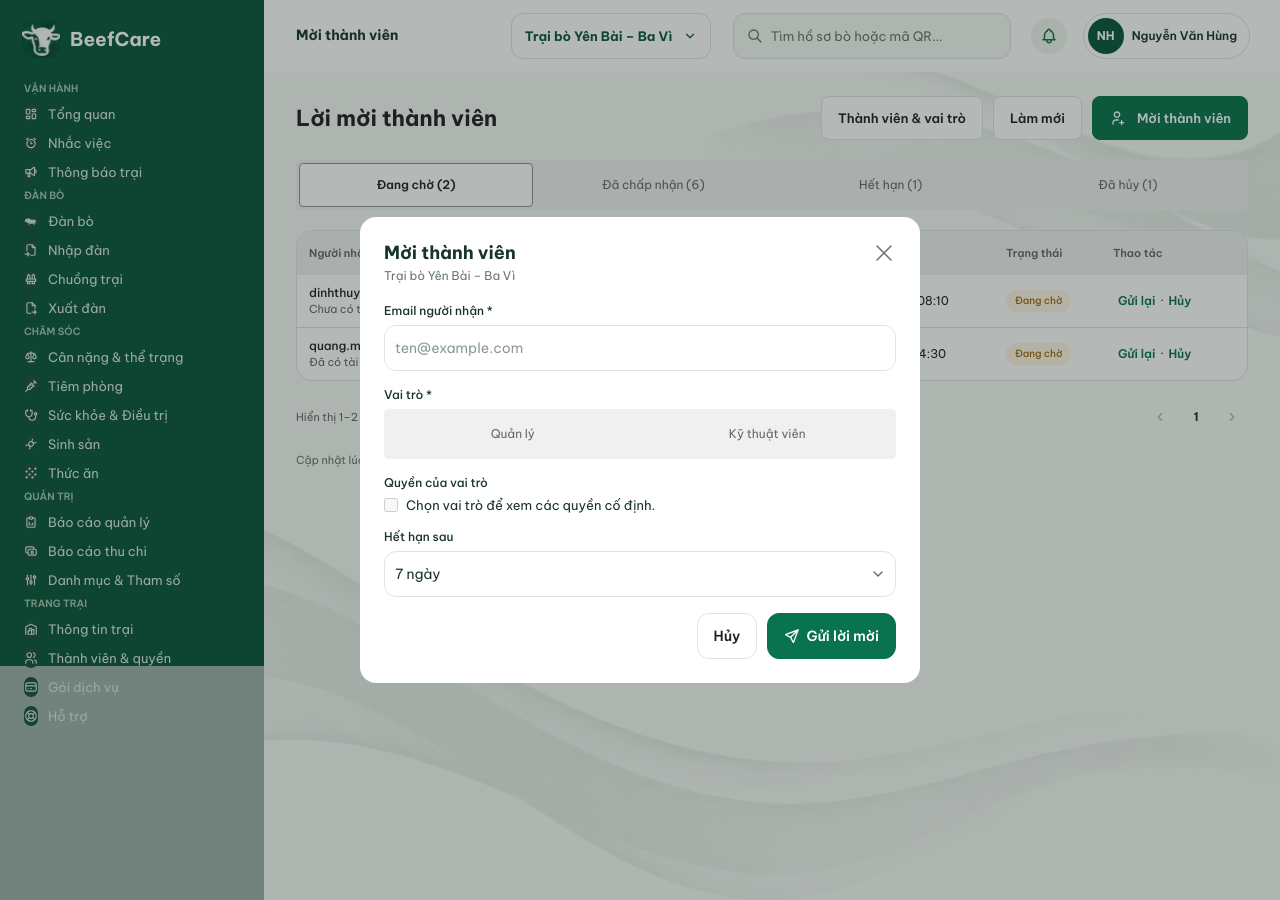
Test: Farm Invitations › sends an invitation from the ?m=invite dialog once a role is chosen
This screenshot has width=1280, height=900.
Check: the text "Chọn vai trò để xem các quyền cố định." is shown, box [384, 497, 655, 513]
Check: the button "Gửi lời mời" is enabled, box [767, 613, 896, 659]
Type "phamtuan.kt@gmail.com" into the field labelled "Email người nhận *".
click(640, 348); type("phamtuan.kt@gmail.com")  # box [384, 325, 896, 371]
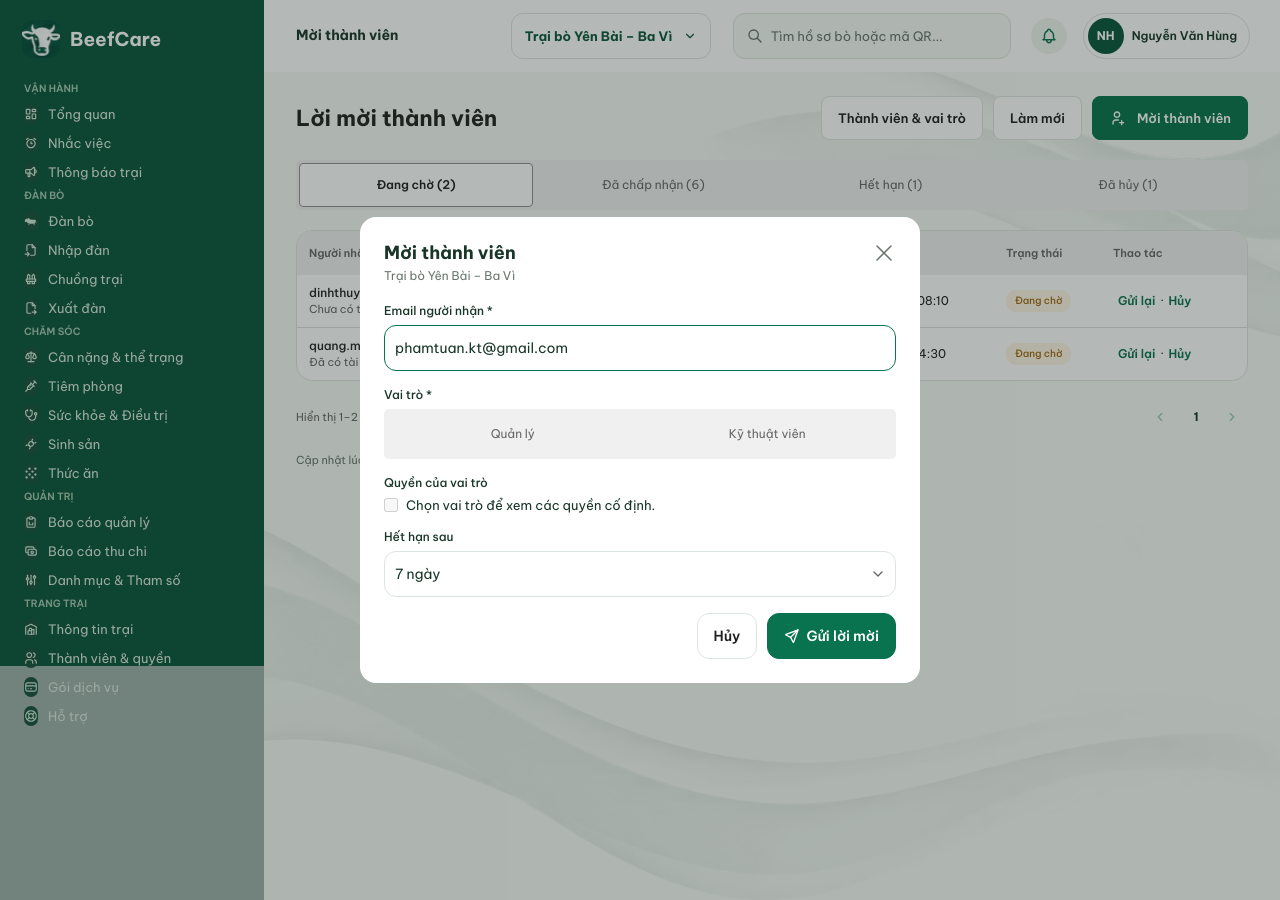
Click the button "Kỹ thuật viên".
click(767, 434)  # box [642, 412, 893, 456]
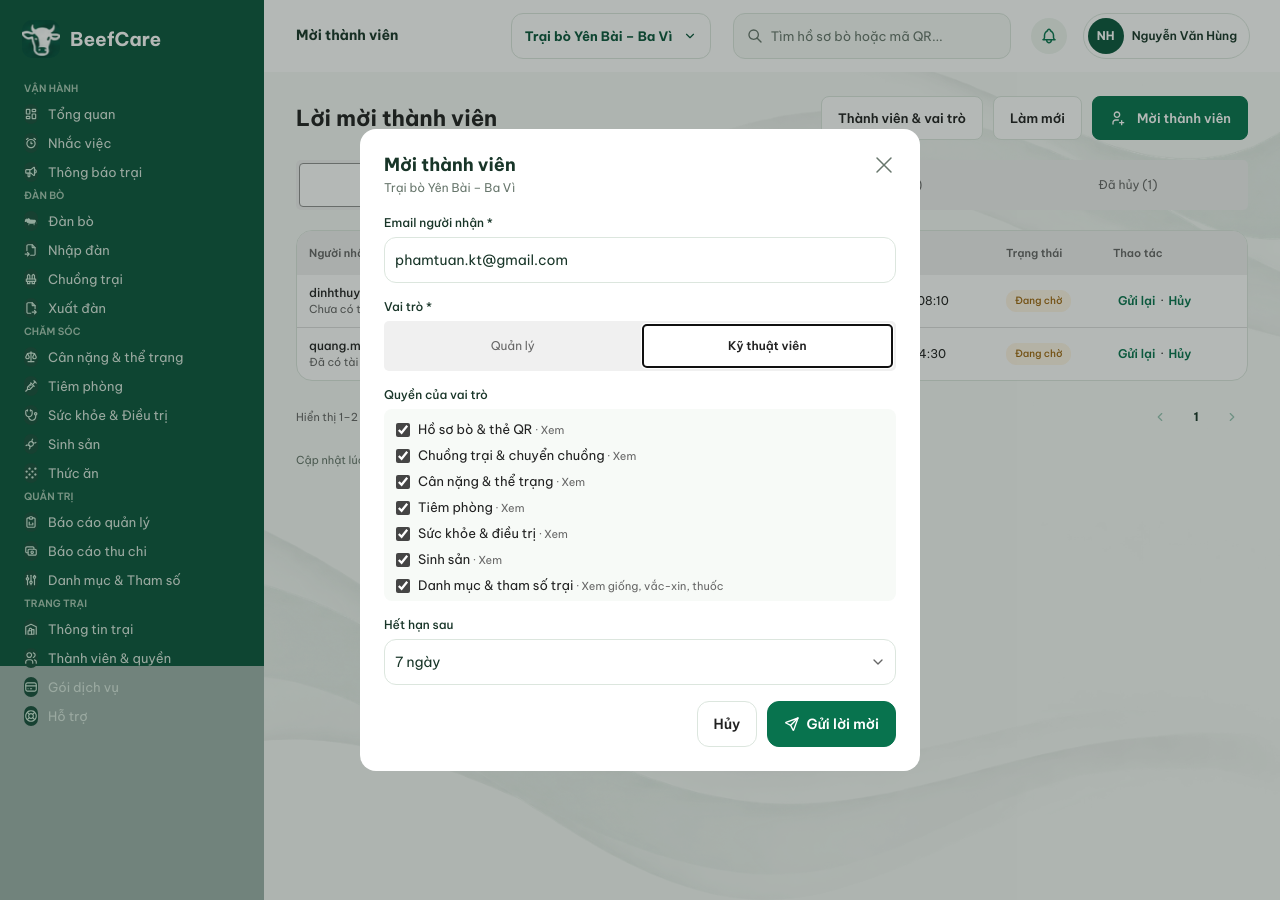
Check: the checkbox labelled "Tiêm phòng · Xem" is shown, box [396, 501, 410, 515]
Click the button "Gửi lời mời".
click(832, 724)  # box [767, 701, 896, 747]
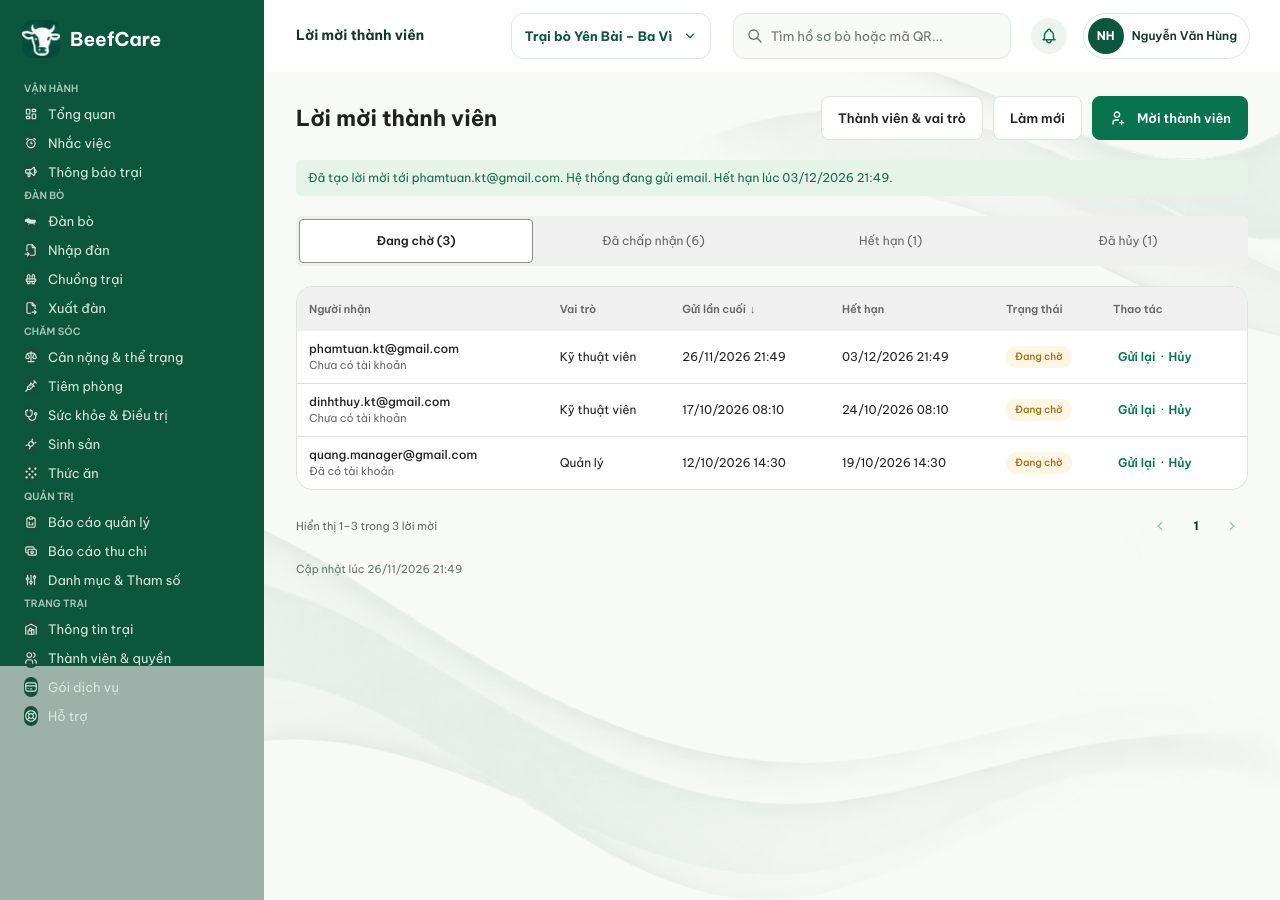
Check: the text "Đã tạo lời mời tới phamtuan.kt@gmail.com. Hệ thống đang gửi email" is shown, box [308, 170, 893, 185]
Check: the button "Đang chờ (3)" is shown, box [299, 219, 533, 263]
